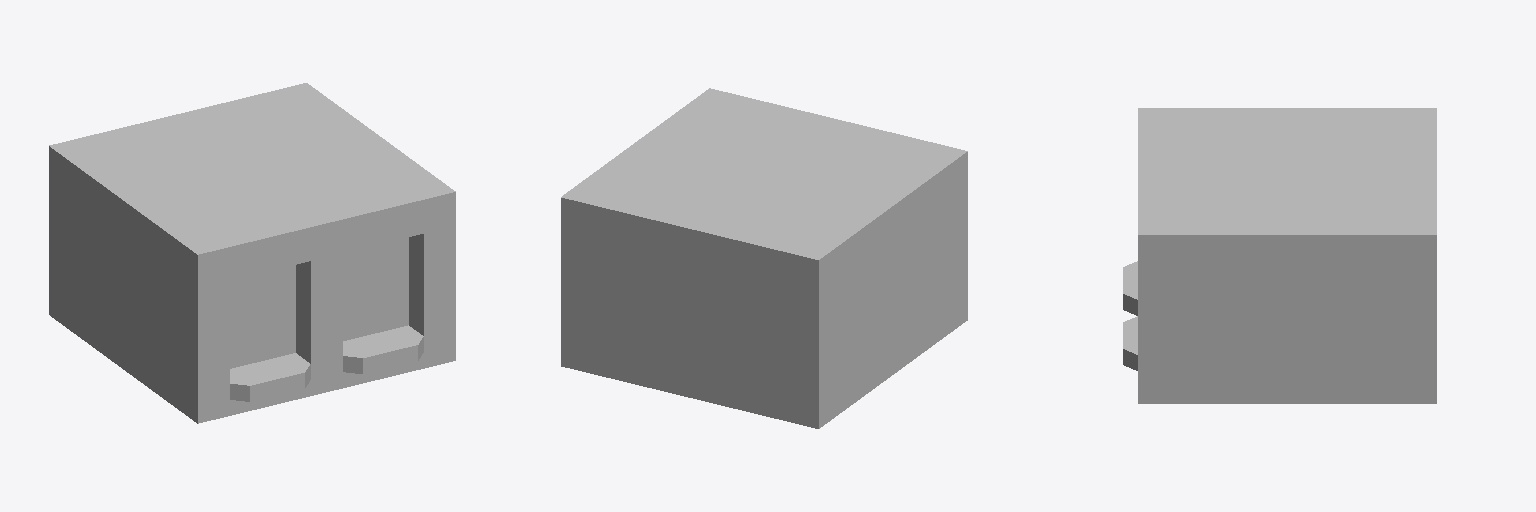
File: building-windows-sills.obj
The picture shows the model from 3 angles: view 1: azimuth 30°, elevation 25°; view 2: azimuth 150°, elevation 25°; view 3: azimuth 270°, elevation 25°; orthographic projection.
Parts seen in each view (by area): view 1: building-windows-sills; view 2: building-windows-sills; view 3: building-windows-sills.
Part boxes in pixels (x1,y1,x2,y2): building-windows-sills: (49,83,455,423); building-windows-sills: (561,88,967,428); building-windows-sills: (1123,108,1436,403).
Size of the model in its own units: 1 by 0.625 by 1.05.